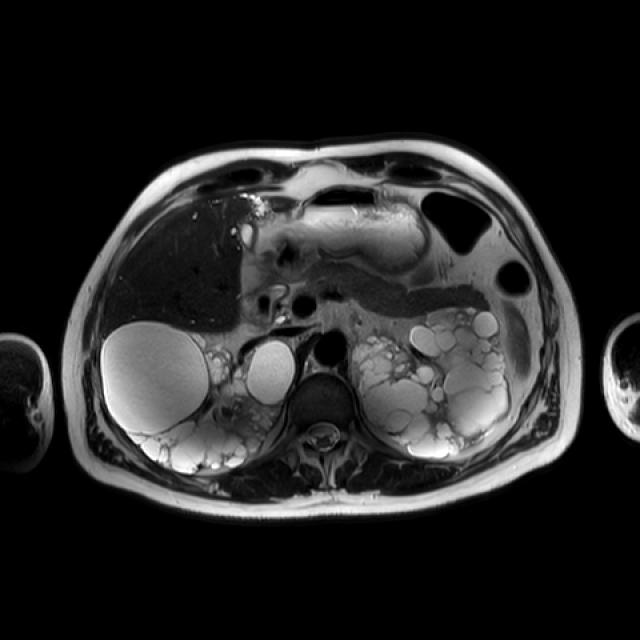sag: (99, 322, 295, 476)
sol: (350, 307, 512, 461)
